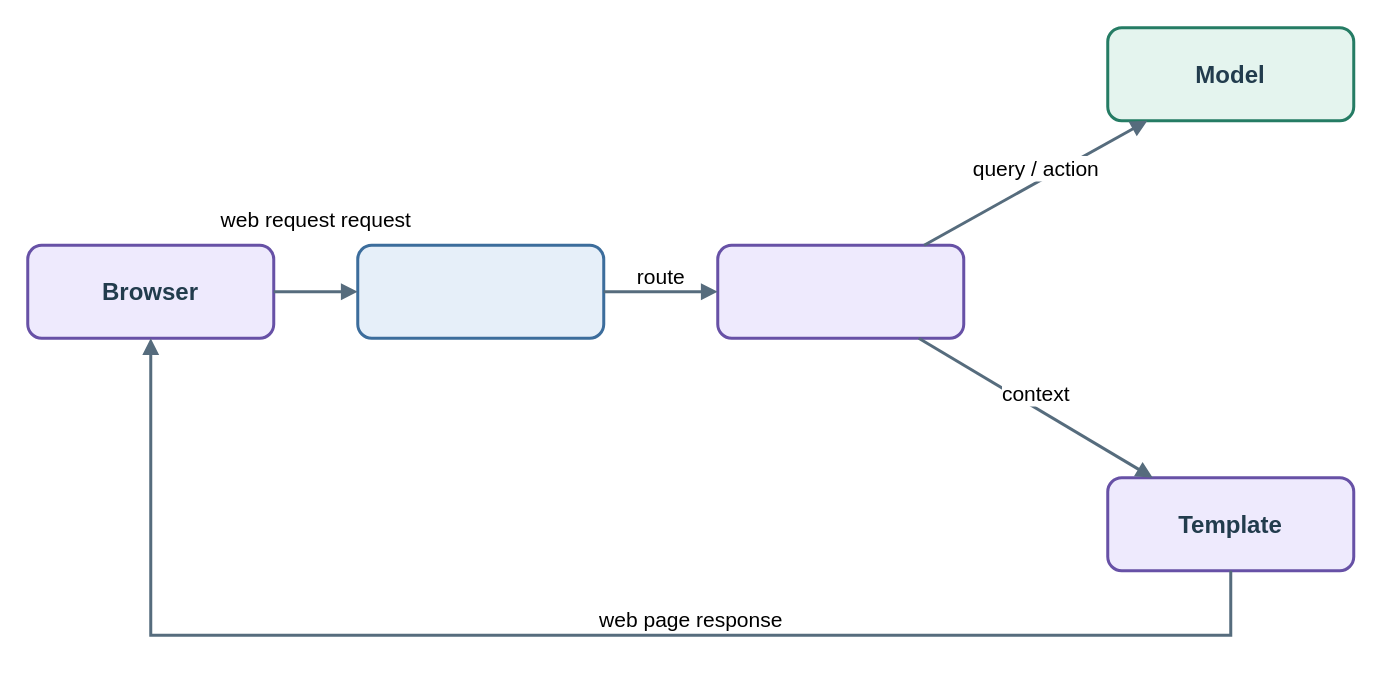
Image size: 1380x674. Some labels were removed from this diagram. The box of each missing label's shape, as (x1, y1, x2, y2) in pixels:
Django View: (716, 243, 964, 339)
web address router: (356, 243, 604, 339)
